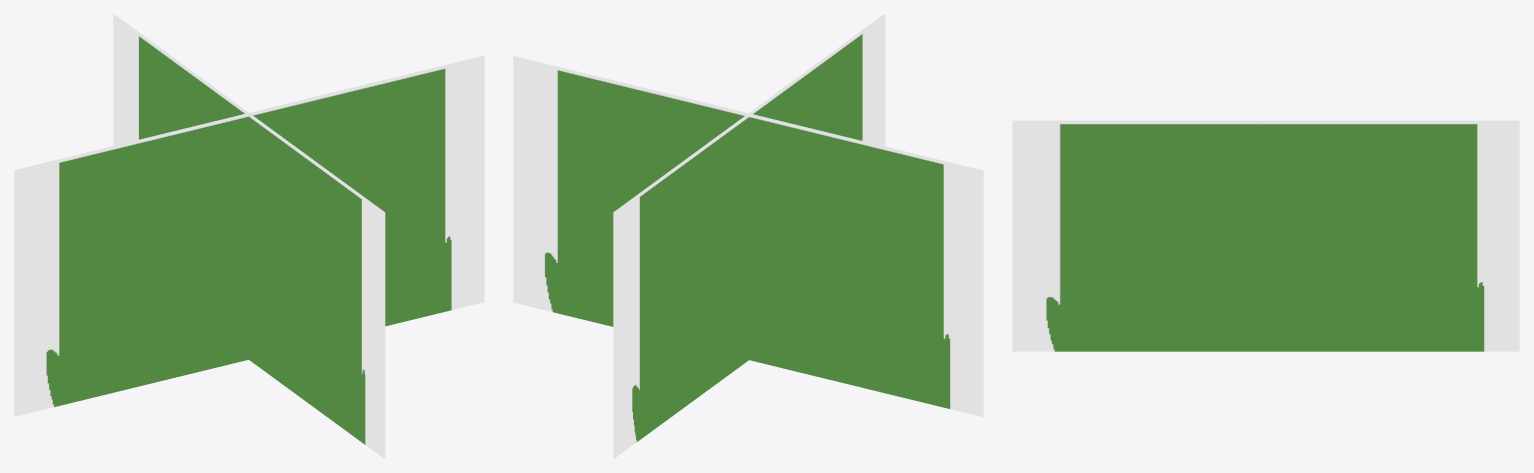
File: Grass_07-2.glb
The picture shows the model from 3 angles, left to right: view 1: azimuth 30°, elevation 25°; view 2: azimuth 150°, elevation 25°; view 3: azimuth 270°, elevation 25°; orthographic projection. The views are drawn at different scales.
Visible parts, largest first — view 1: Grass_07-2_LOD0; view 2: Grass_07-2_LOD0; view 3: Grass_07-2_LOD0.
Boxes of the visible parts, <box> form: Grass_07-2_LOD0: <box>14,14,484,458</box>; Grass_07-2_LOD0: <box>513,14,983,458</box>; Grass_07-2_LOD0: <box>1012,120,1519,351</box>.
Size of what is drawn, in the model's own units: 0.5621 by 0.2817 by 0.5621.
1 material, 1 textured.
